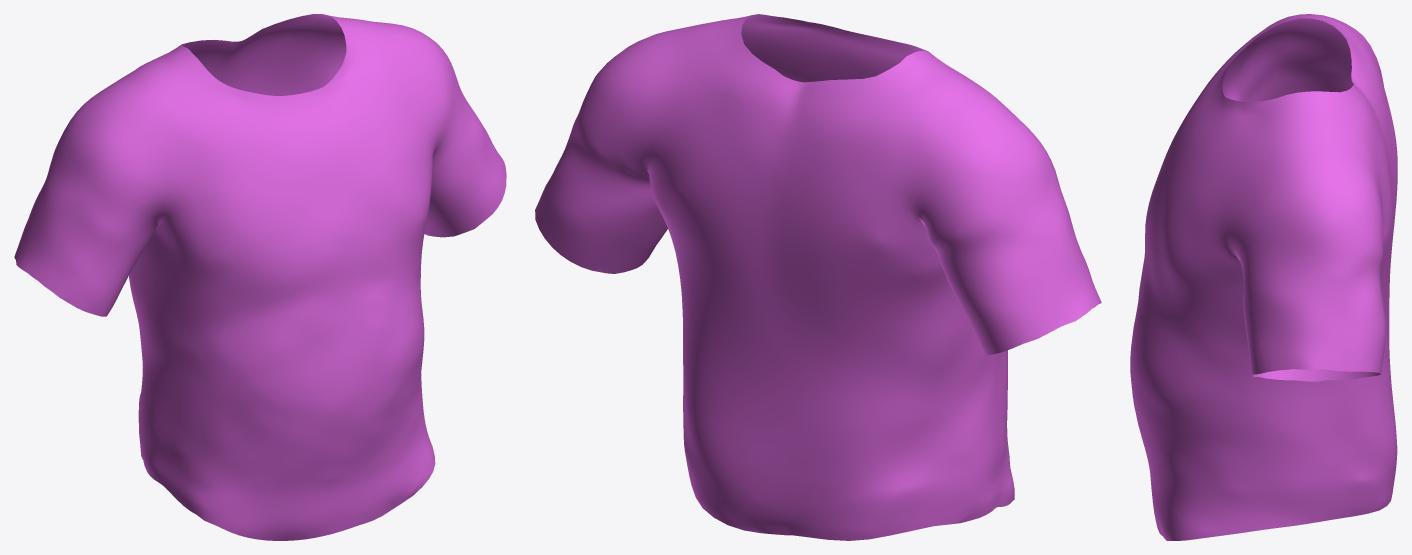
The model's file is Male-XXX-Large-Tshirt.glb.
3 renders of one model, left to right at view 1: azimuth 30°, elevation 25°; view 2: azimuth 150°, elevation 25°; view 3: azimuth 270°, elevation 25°, orthographic. The views are drawn at different scales.
Visible parts, largest first — view 1: Group1.014; view 2: Group1.014; view 3: Group1.014.
Part boxes in pixels (x1,y1,x2,y2): Group1.014: (14, 14, 506, 540); Group1.014: (535, 14, 1101, 540); Group1.014: (1130, 14, 1397, 540).
Bounding box in the file's own units: 1.41 × 1.27 × 0.6688.
